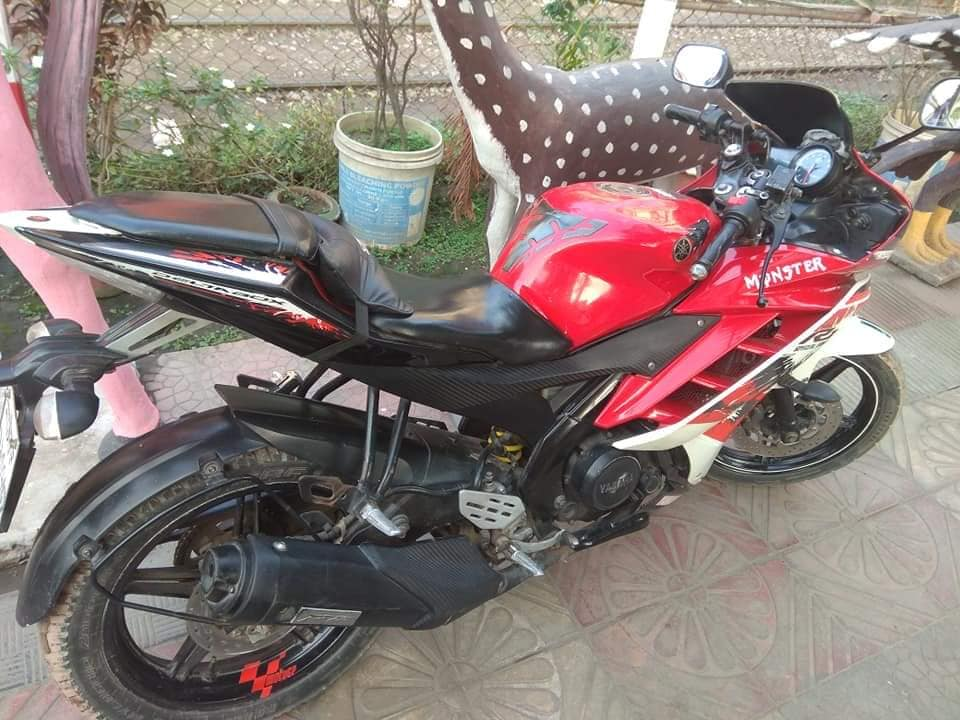bike: (1, 42, 960, 720)
